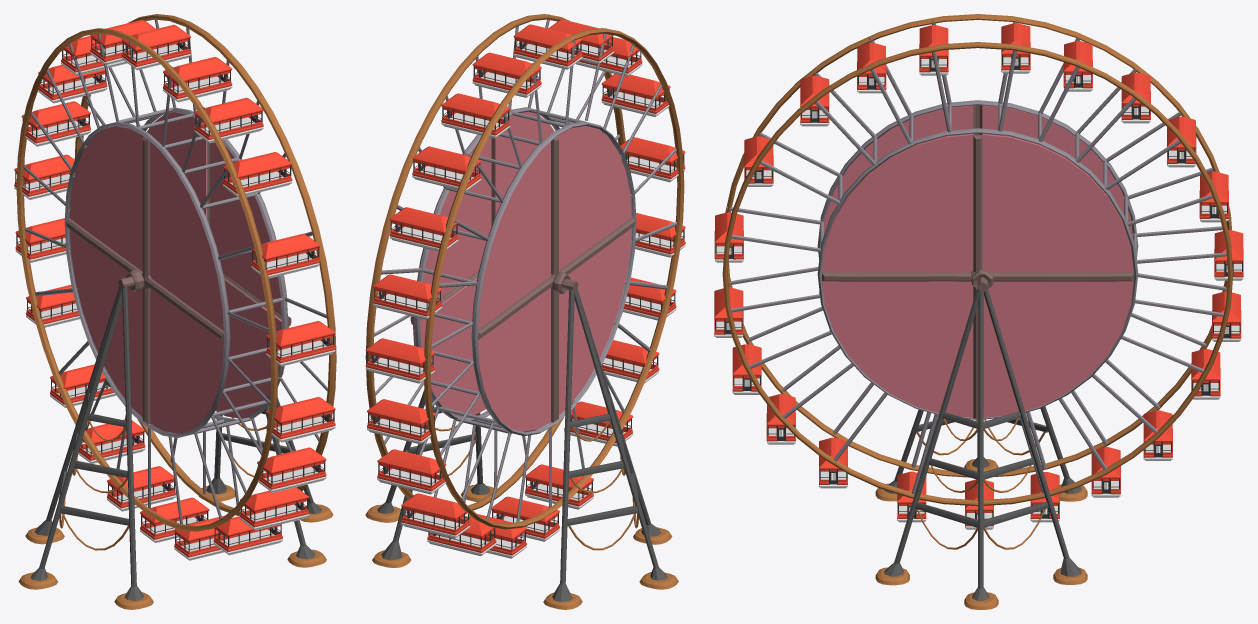
File: Grande_roue.fbx
The picture shows the model from 3 angles, left to right: view 1: azimuth 30°, elevation 25°; view 2: azimuth 150°, elevation 25°; view 3: azimuth 270°, elevation 25°; orthographic projection.
Visible parts, largest first — view 1: BézierCircle.002, BézierCircle.011, BézierCircle.010, BézierCircle.012, BézierCurve, BézierCircle.009, BézierCircle.001, Cube.181, BézierCircle.007, BézierCircle.006, BézierCircle.003, BézierCircle.013 (+51 smaller); view 2: BézierCircle.002, BézierCircle.009, BézierCircle.012, BézierCircle.010, BézierCurve, BézierCircle.011, BézierCircle.001, BézierCircle.014, BézierCircle.003, Cube.181, BézierCircle.005, BézierCircle.013 (+53 smaller); view 3: BézierCircle.007, BézierCircle.005, BézierCircle.006, BézierCircle.014, BézierCurve, BézierCircle.001, BézierCircle.002, Cube.181, BézierCircle.004, BézierCircle, BézierCircle.012, BézierCircle.010 (+19 smaller).
Boxes of the visible parts, <box> form: BézierCircle.002: <box>16,28,278,531</box>; BézierCircle.011: <box>150,288,223,433</box>; BézierCircle.010: <box>69,126,143,271</box>; BézierCircle.012: <box>150,142,223,330</box>; BézierCurve: <box>24,19,327,524</box>; BézierCircle.009: <box>69,229,142,416</box>; BézierCircle.001: <box>74,14,336,515</box>; Cube.181: <box>34,286,315,600</box>; BézierCircle.007: <box>210,142,287,314</box>; BézierCircle.006: <box>215,280,289,418</box>; BézierCircle.003: <box>64,122,230,437</box>; BézierCircle.013: <box>66,136,223,424</box>; BézierCircle.002: <box>424,28,684,529</box>; BézierCircle.009: <box>478,287,550,431</box>; BézierCircle.012: <box>558,126,631,270</box>; BézierCircle.010: <box>478,141,550,329</box>; BézierCurve: <box>374,14,676,522</box>; BézierCircle.011: <box>559,228,631,414</box>; BézierCircle.001: <box>365,14,625,510</box>; BézierCircle.014: <box>413,278,485,416</box>; BézierCircle.003: <box>471,121,636,436</box>; Cube.181: <box>381,289,661,601</box>; BézierCircle.005: <box>417,137,491,300</box>; BézierCircle.013: <box>477,136,634,422</box>; BézierCircle.007: <box>822,134,973,272</box>; BézierCircle.005: <box>982,134,1133,272</box>; BézierCircle.006: <box>822,281,973,417</box>; BézierCircle.014: <box>983,281,1133,417</box>; BézierCurve: <box>726,19,1226,500</box>; BézierCircle.001: <box>722,42,1233,506</box>; BézierCircle.002: <box>725,14,1231,477</box>; Cube.181: <box>884,289,1081,576</box>; BézierCircle.004: <box>822,135,1133,418</box>; BézierCircle: <box>817,128,1138,419</box>; BézierCircle.012: <box>824,105,973,242</box>; BézierCircle.010: <box>982,105,1132,242</box>.
Size of the model in its own units: 5116 by 8096 by 7676.
